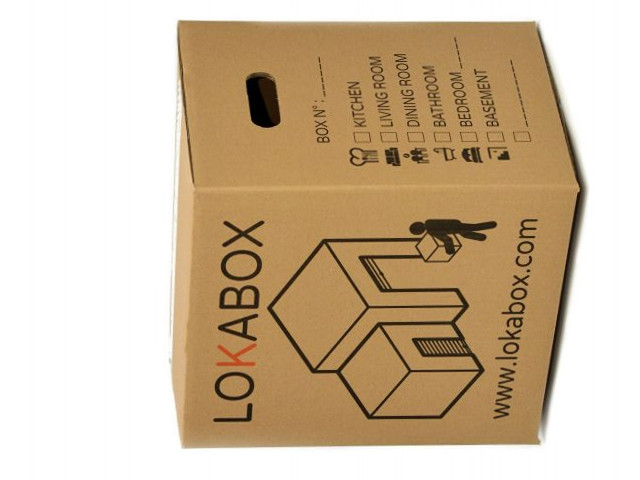cardboard: (175, 21, 576, 440)
